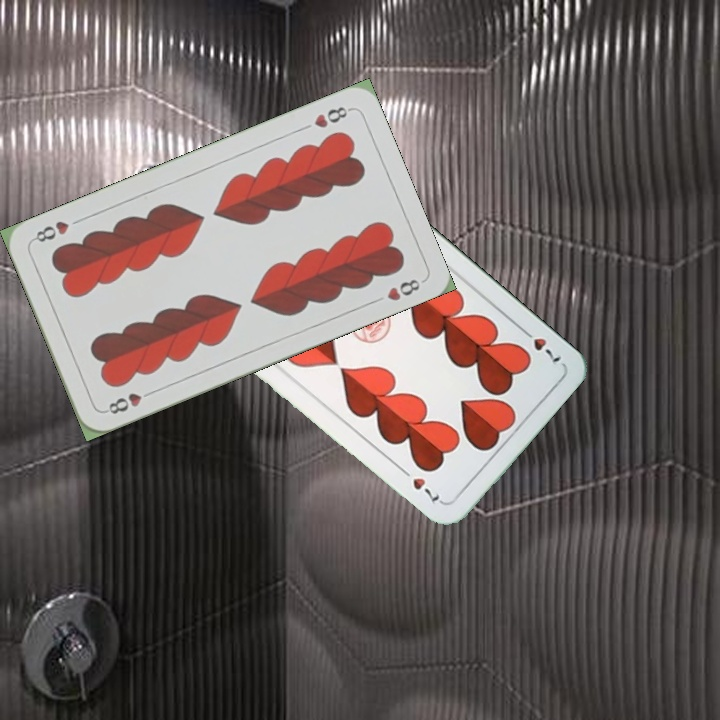H7: (516, 322, 564, 366)
H8: (100, 386, 157, 417), (309, 102, 354, 131)
